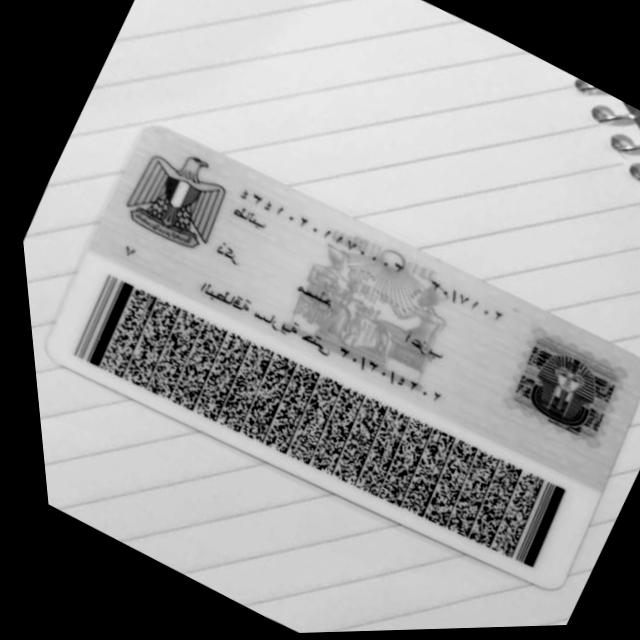id_card: (48, 126, 640, 587)
